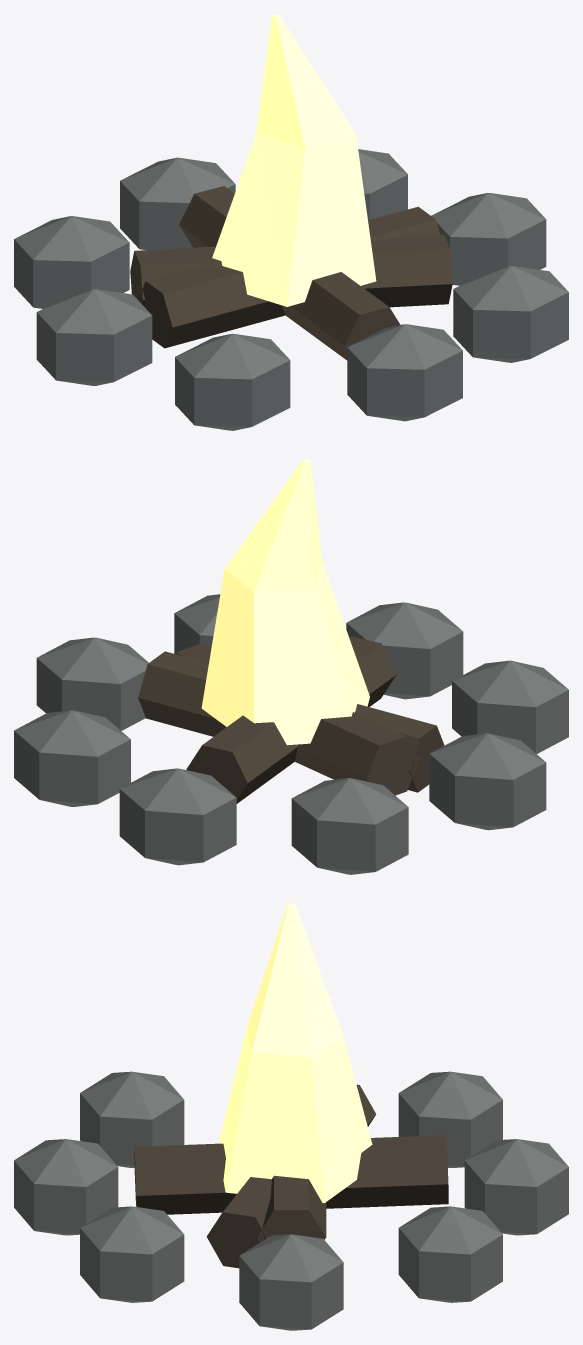
File: PRP_07_Campfire.glb
The picture shows the model from 3 angles, top to bottom: view 1: azimuth 30°, elevation 25°; view 2: azimuth 150°, elevation 25°; view 3: azimuth 270°, elevation 25°; orthographic projection.
Visible parts, largest first — view 1: PRP_07_Campfire; view 2: PRP_07_Campfire; view 3: PRP_07_Campfire.
Part boxes in pixels (x1,y1,x2,y2): PRP_07_Campfire: (14, 14, 568, 430); PRP_07_Campfire: (14, 459, 568, 874); PRP_07_Campfire: (14, 903, 568, 1330).
Size of the model in its own units: 1.3 by 0.82 by 1.28.
